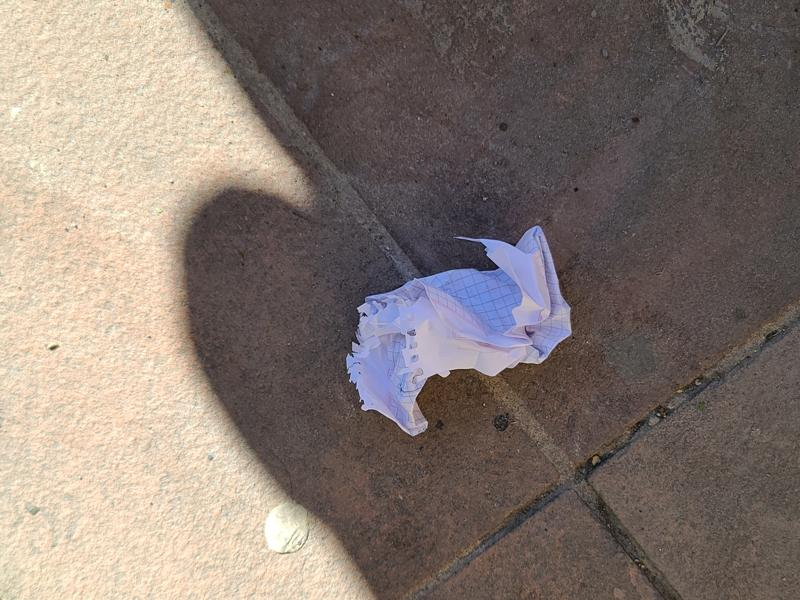papel: (345, 226, 572, 437)
